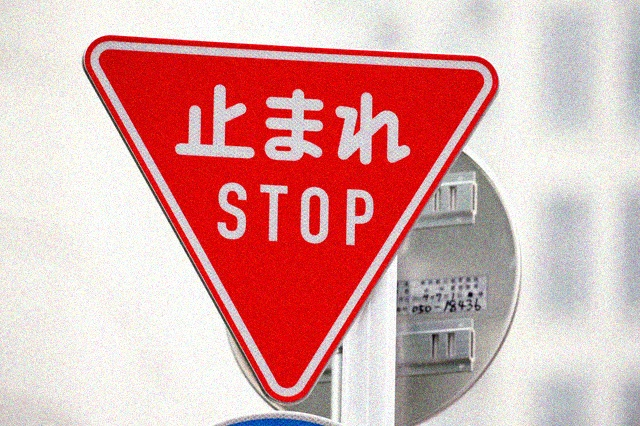Regulatory_sign_triangle: (69, 24, 516, 413)
